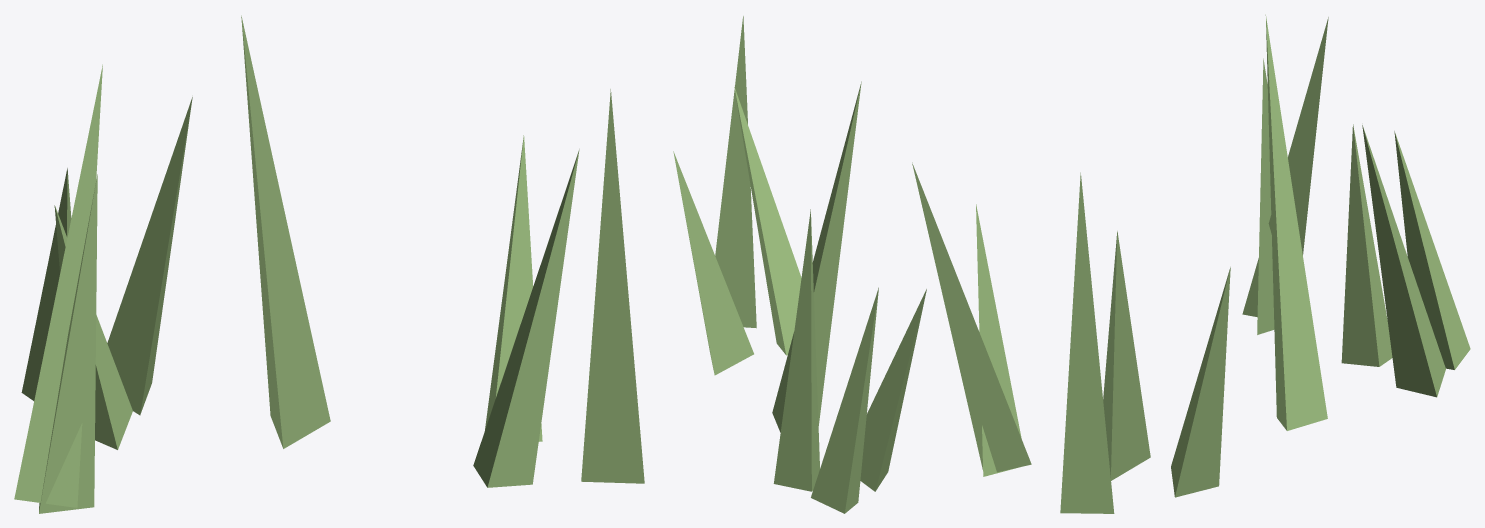
File: Grass_A.fbx
3 views of the same model, side by side, from view 1: azimuth 30°, elevation 25°; view 2: azimuth 150°, elevation 25°; view 3: azimuth 270°, elevation 25° (orthographic). The views are drawn at different scales.
Visible parts, largest first — view 1: Grass_A_Mesh; view 2: Grass_A_Mesh; view 3: Grass_A_Mesh.
Boxes of the visible parts, x1=… form: Grass_A_Mesh: x1=14, y1=15, x2=644, y2=513; Grass_A_Mesh: x1=673, y1=16, x2=1031, y2=513; Grass_A_Mesh: x1=1060, y1=14, x2=1470, y2=513.
Bounding box in the file's own units: 0.5589 × 0.4756 × 0.459.
